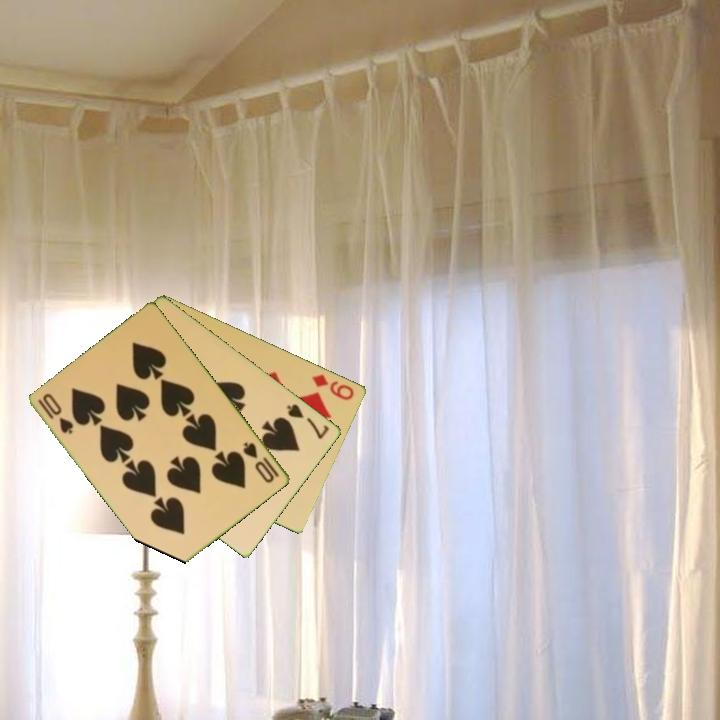10s: (34, 390, 77, 437), (240, 438, 282, 486)
7s: (283, 400, 332, 442)
9d: (308, 370, 357, 403)
